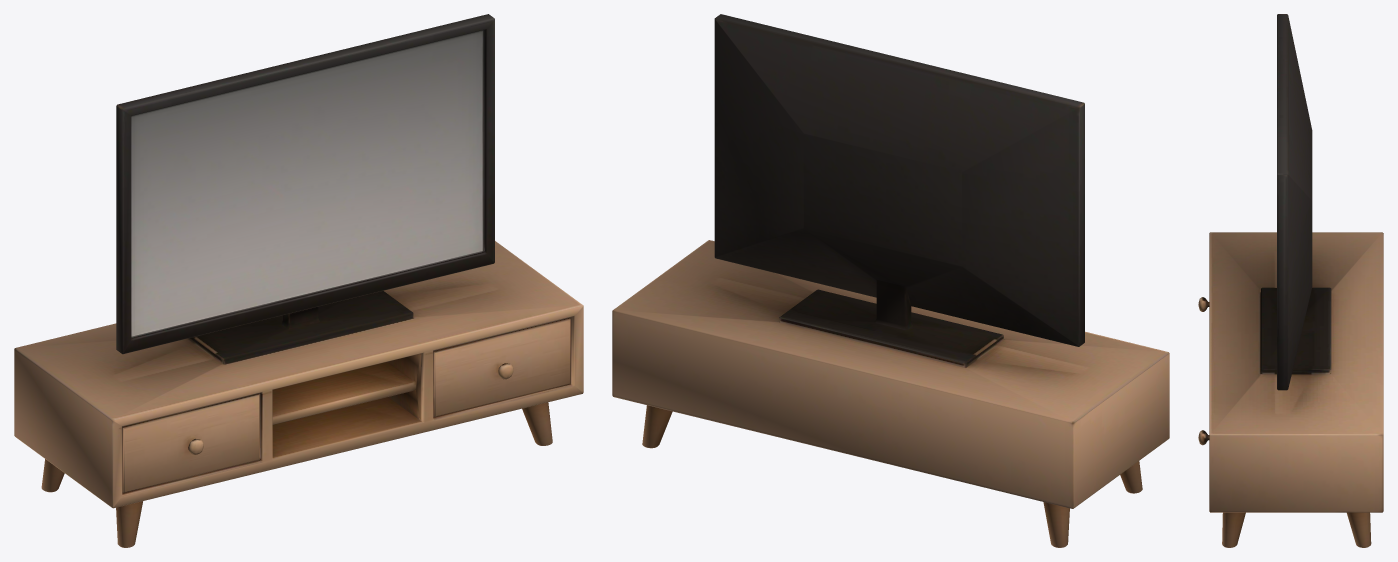
The model's file is television_stand_realistic_style_7e1ae602_v3.glb.
The picture shows the model from 3 angles, left to right: view 1: azimuth 30°, elevation 25°; view 2: azimuth 150°, elevation 25°; view 3: azimuth 270°, elevation 25°; orthographic projection. The views are drawn at different scales.
Visible parts, largest first — view 1: mesh_input; view 2: mesh_input; view 3: mesh_input.
Part boxes in pixels (x1,y1,x2,y2): mesh_input: (14, 14, 583, 547); mesh_input: (612, 14, 1169, 547); mesh_input: (1198, 14, 1383, 547).
Size of the model in its own units: 1.9 by 1.58 by 0.7325.
1 material, 1 textured.
